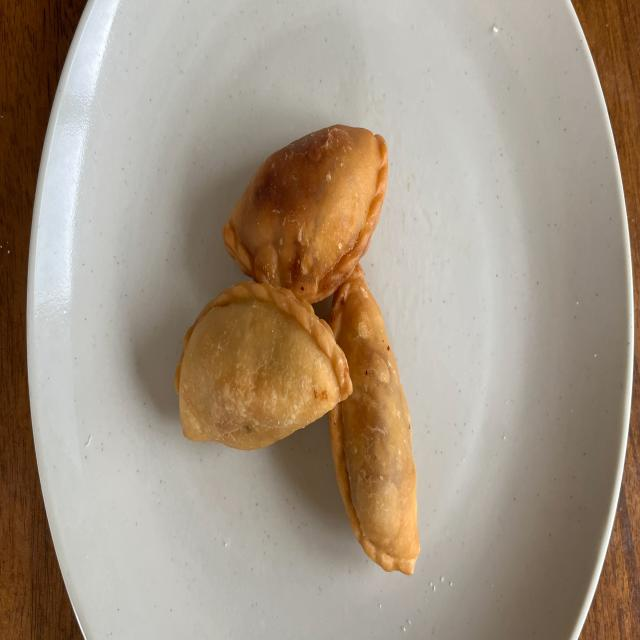karipap: (222, 124, 388, 304), (175, 282, 352, 449), (329, 264, 420, 573)
